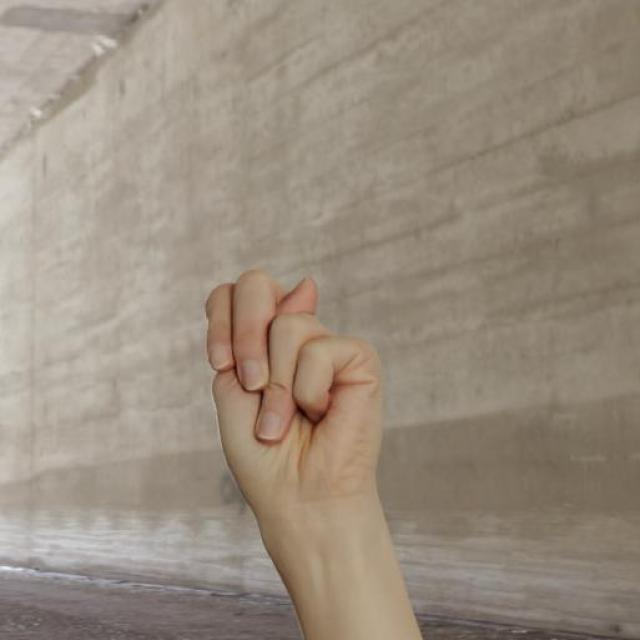N: (198, 270, 388, 504)
